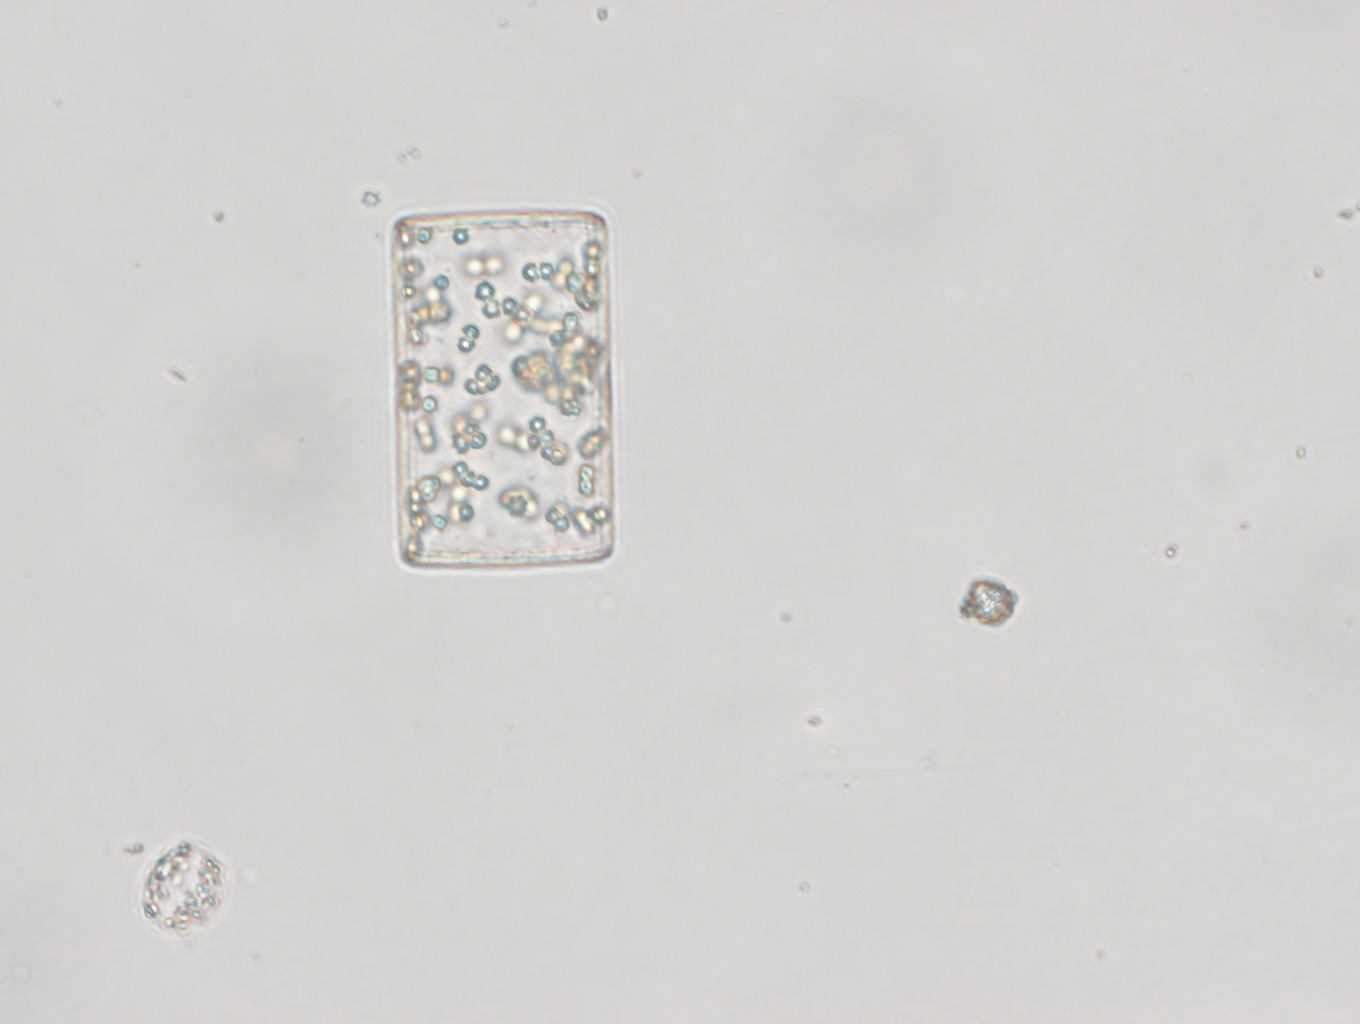guinardia flaccida: (390, 211, 611, 570)
